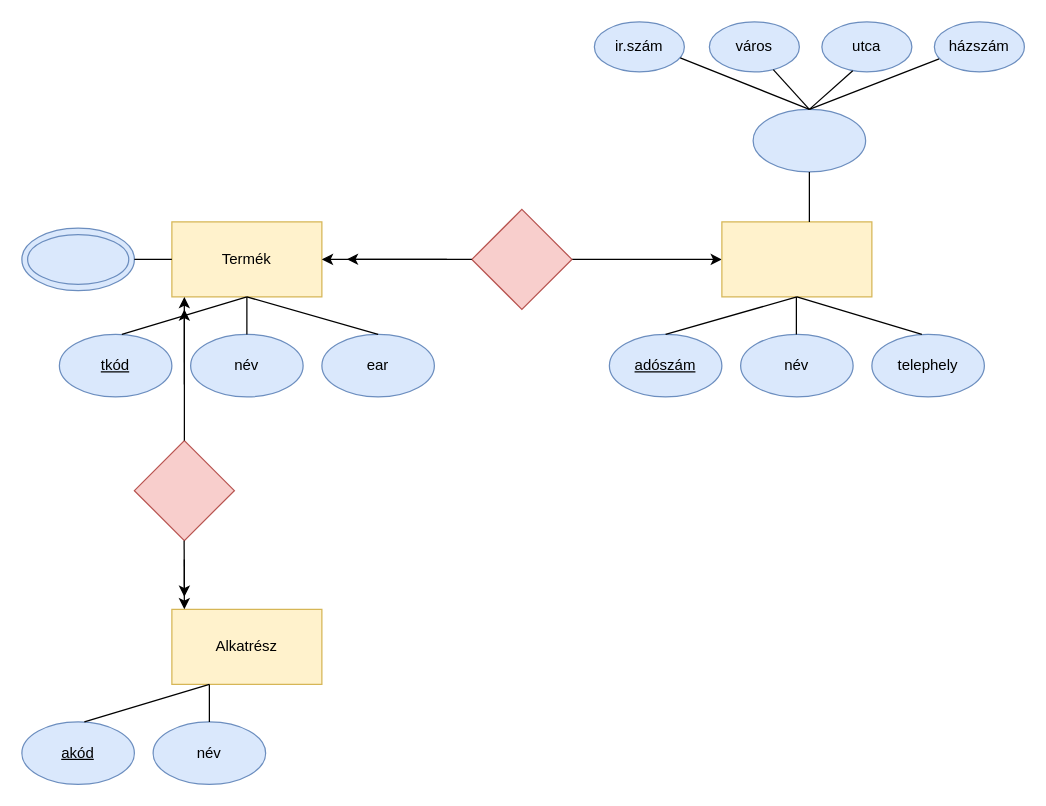
The diagram is 1046 pixels wide and 806 high, and some of its shapes have lost their labels. Here are the shapes that lost their labels. From the top down, the centre of each, then its label:
the point at 809,140: postai cím
the point at 77,258: egység_db
the point at 521,258: T-GY
the point at 796,259: Gyártó
the point at 183,490: T-A
